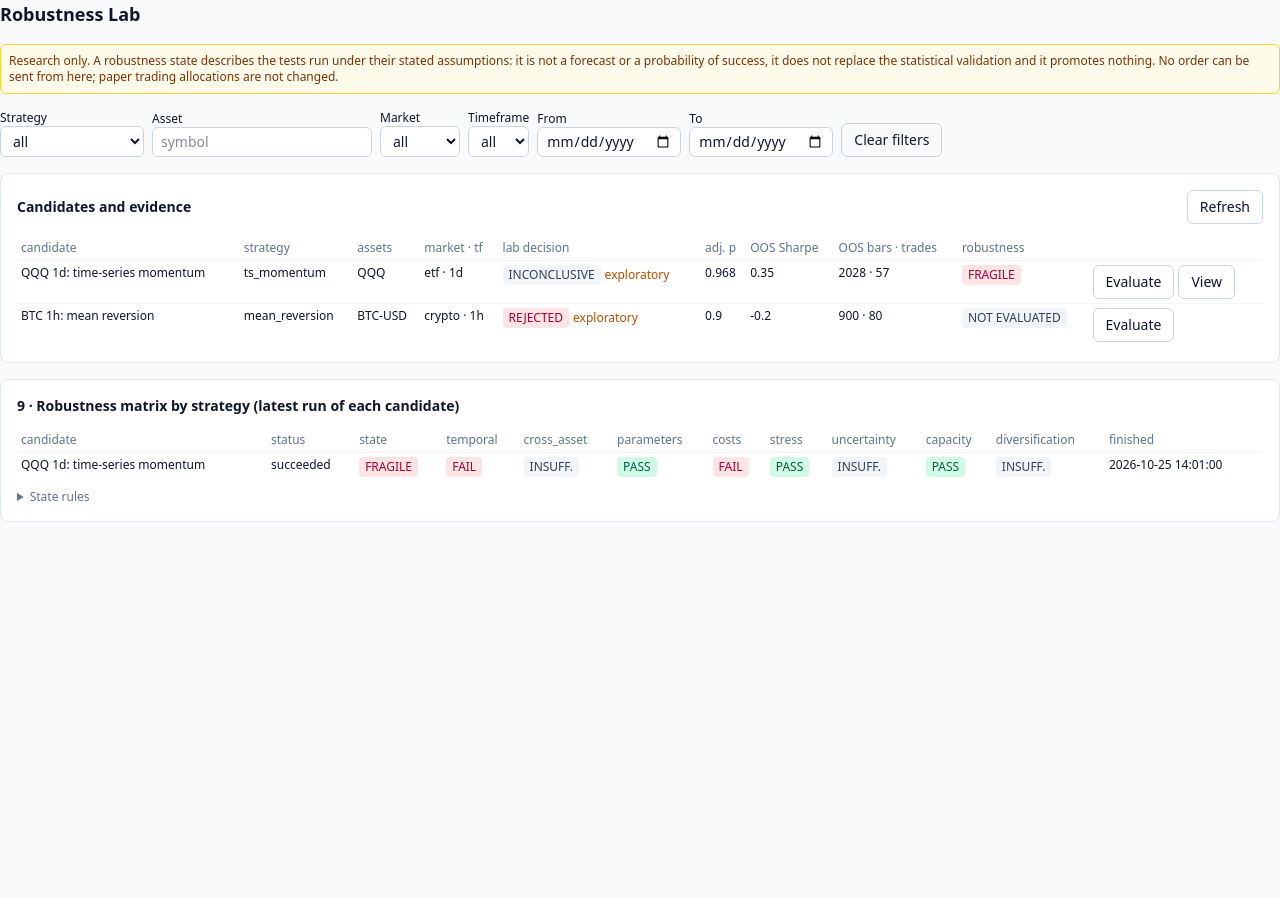
it: Robustness Lab › shows candidates, the robustness matrix and every section of a run with its evidence and limitations
The image size is (1280, 898).
Check: the text "not a forecast or a probability of success" is shown, box [9,52,1249,85]
Check: the text "BTC 1h: mean reversion" is shown, box [21,307,154,324]
Step 1. Click the button "View" → {"x": 1207, "y": 282}, box [1178,265,1235,299]
(page scrolled)
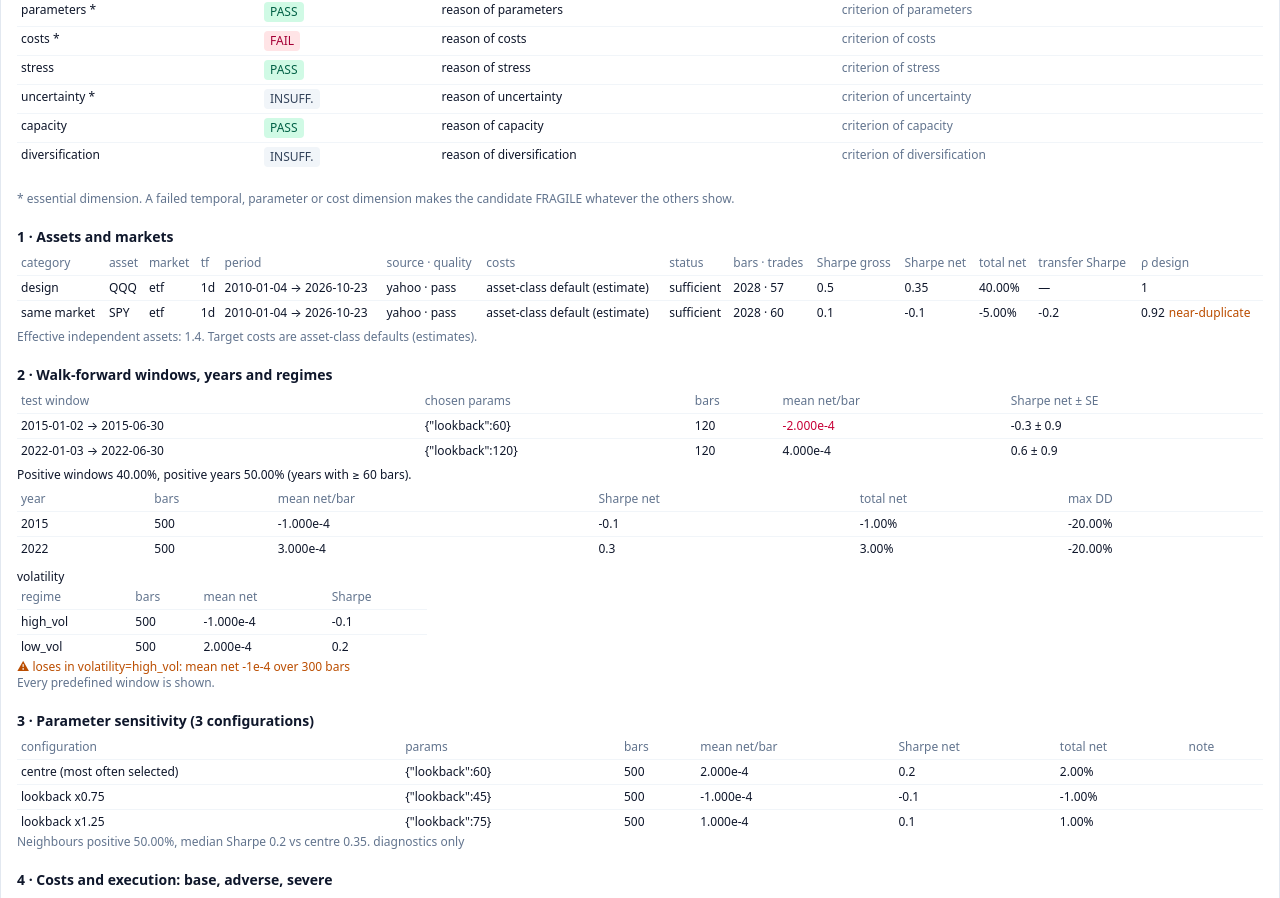
Check: the heading "1 · Assets and markets" is shown, box [17,227,174,246]
Check: the heading "2 · Walk-forward windows, years and regimes" is shown, box [17,365,332,384]
Check: the heading "3 · Parameter sensitivity (3 configurations)" is shown, box [17,711,314,730]
